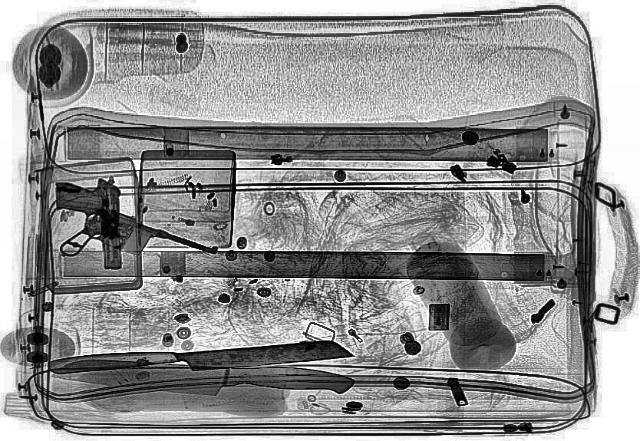Gun: (55, 204, 224, 284), (56, 177, 122, 270)
Knife: (44, 330, 356, 386), (47, 354, 356, 402)
